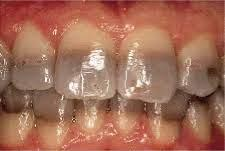Discoloration: (56, 24, 118, 99), (117, 28, 176, 100), (175, 30, 220, 92), (9, 30, 56, 88), (32, 85, 72, 143), (2, 85, 36, 136), (109, 93, 144, 140), (146, 100, 186, 140), (76, 96, 109, 140), (186, 97, 217, 140)
